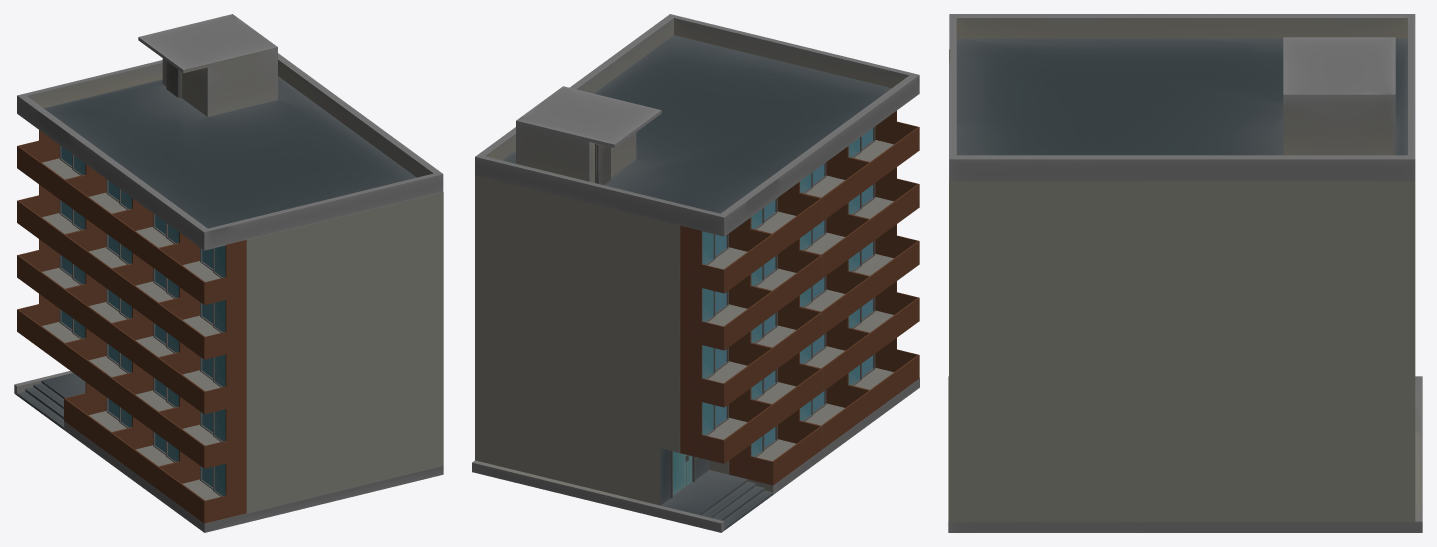
File: condominium_Three_L.gltf
The picture shows the model from 3 angles, left to right: view 1: azimuth 30°, elevation 25°; view 2: azimuth 150°, elevation 25°; view 3: azimuth 270°, elevation 25°; orthographic projection. The views are drawn at different scales.
Visible parts, largest first — view 1: Apartment_House_Roof, Apartment_House_Room.009, Apartment_House_Room.019, Apartment_House_Room.010, Apartment_House_Room.015, Apartment_House_Room.011, Apartment_House_Base, Apartment_House_Room.002, Apartment_House_Room.008, Apartment_House_Room.014, Apartment_House_Room.001, Apartment_House_Room.005 (+10 smaller); view 2: Apartment_House_Roof, Apartment_House_Room.017, Apartment_House_Room.013, Apartment_House_Room.007, Apartment_House_Room.004, Apartment_House_Enterence, Apartment_House_Base, Apartment_House_Room.001, Apartment_House_Room.002, Apartment_House_Room.012, Apartment_House_Room.014, Apartment_House_Room.009 (+10 smaller); view 3: Apartment_House_Roof, Apartment_House_Enterence, Apartment_House_Room.017, Apartment_House_Room.019, Apartment_House_Room.001, Apartment_House_Room.002, Apartment_House_Room.005, Apartment_House_Room.008, Apartment_House_Room.009, Apartment_House_Room.014, Apartment_House_Room.011, Apartment_House_Room.015 (+10 smaller).
Part boxes in pixels (x1,y1,x2,y2): Apartment_House_Roof: (17, 14, 443, 250); Apartment_House_Room.009: (157, 410, 443, 523); Apartment_House_Room.019: (157, 192, 443, 304); Apartment_House_Room.010: (157, 355, 443, 468); Apartment_House_Room.015: (157, 247, 443, 359); Apartment_House_Room.011: (157, 301, 443, 414); Apartment_House_Base: (14, 370, 443, 532); Apartment_House_Room.002: (110, 416, 179, 488); Apartment_House_Room.008: (110, 307, 179, 379); Apartment_House_Room.014: (110, 253, 179, 325); Apartment_House_Room.001: (64, 382, 132, 454); Apartment_House_Room.005: (110, 362, 179, 434); Apartment_House_Roof: (475, 14, 919, 236); Apartment_House_Room.017: (475, 175, 773, 293); Apartment_House_Room.013: (475, 232, 773, 350); Apartment_House_Room.007: (475, 289, 773, 407); Apartment_House_Room.004: (475, 346, 773, 463); Apartment_House_Enterence: (475, 403, 773, 530); Apartment_House_Base: (472, 378, 919, 532); Apartment_House_Room.001: (709, 409, 821, 485); Apartment_House_Room.002: (799, 373, 870, 449); Apartment_House_Room.012: (750, 239, 821, 314); Apartment_House_Room.014: (799, 203, 870, 278); Apartment_House_Room.009: (848, 338, 919, 413); Apartment_House_Roof: (949, 14, 1415, 181); Apartment_House_Enterence: (1298, 453, 1415, 521); Apartment_House_Room.017: (1298, 181, 1415, 249); Apartment_House_Room.019: (949, 49, 1065, 249); Apartment_House_Room.001: (1182, 453, 1298, 521); Apartment_House_Room.002: (1065, 453, 1181, 521); Apartment_House_Room.005: (1065, 385, 1181, 453); Apartment_House_Room.008: (1065, 317, 1181, 385); Apartment_House_Room.009: (949, 453, 1065, 521); Apartment_House_Room.014: (1065, 249, 1181, 317); Apartment_House_Room.011: (949, 317, 1065, 385); Apartment_House_Room.015: (949, 249, 1065, 317).
Size of the model in its own units: 17.95 by 24.15 by 24.75.
2 materials, 2 textured.
